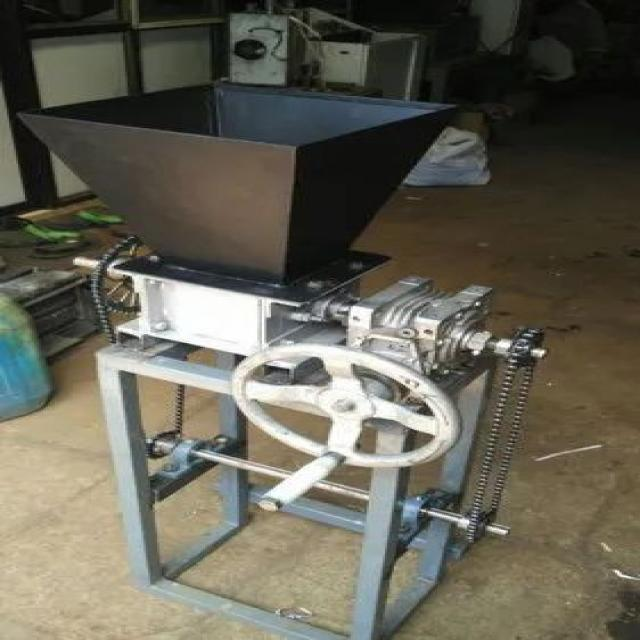Broyeur: (22, 73, 448, 283)
